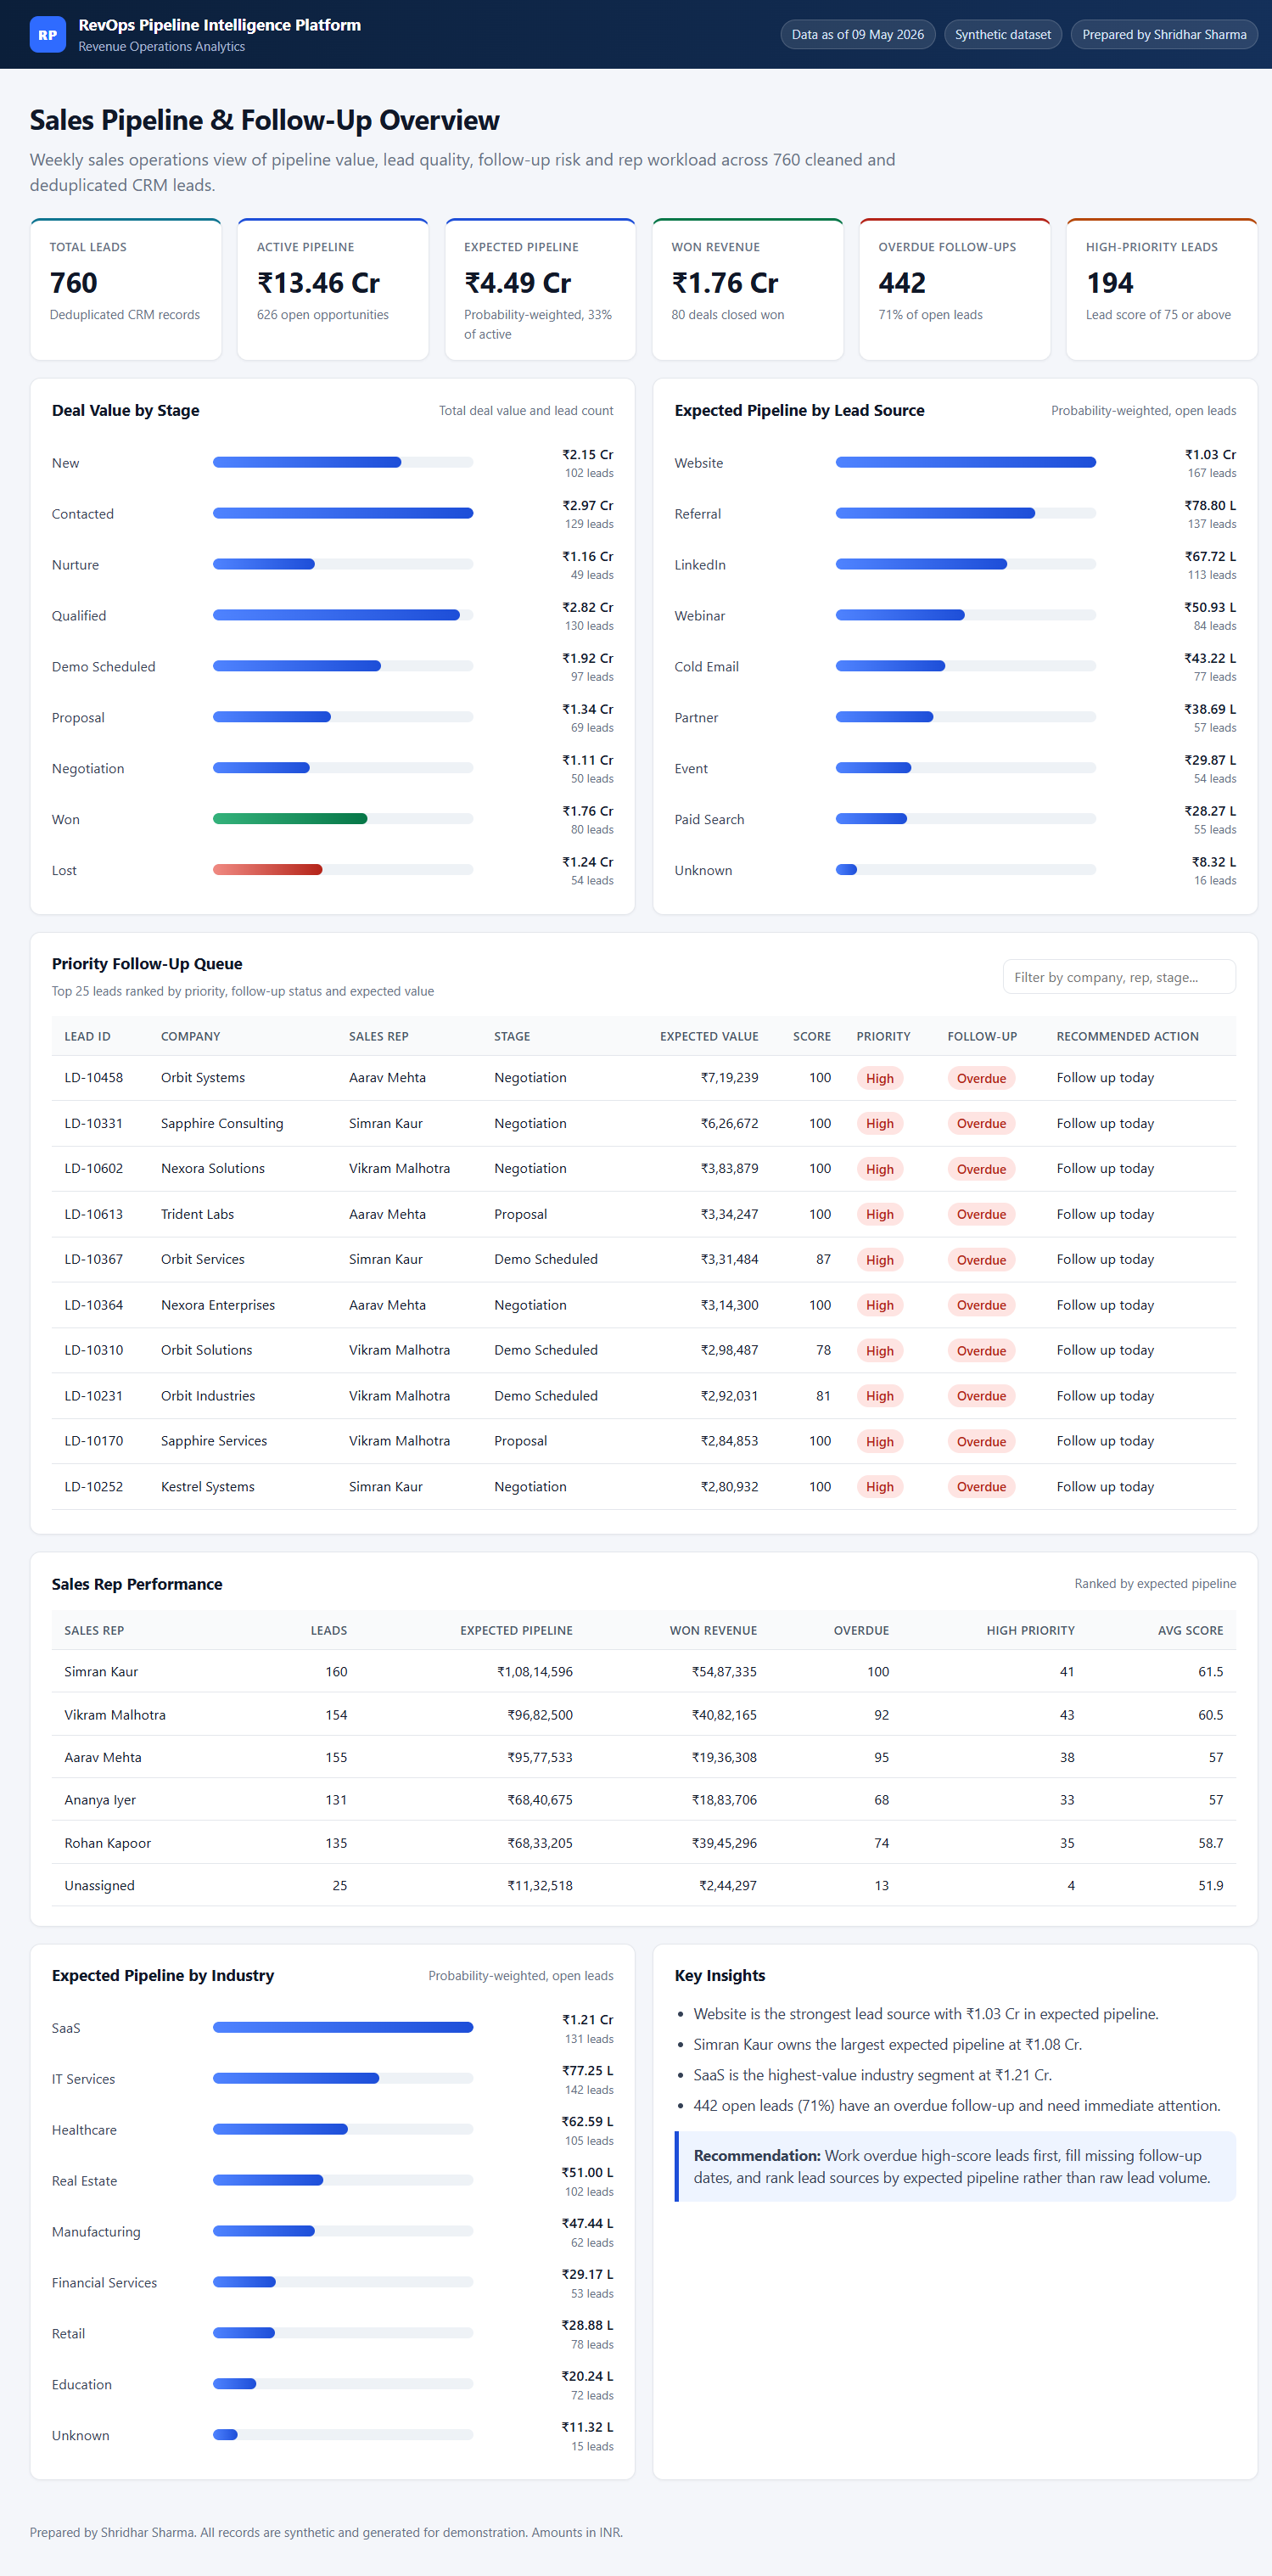

This screenshot's page, from the dashboard's own definition file:
{"tool":"powerbi","page":{"name":"Page 1","canvas":[1920,1080],"ordinal":0},"visuals":[{"type":"cardVisual","fields":{"Data":["clean_crm_leads.Total Leads"]},"box":[0,0,185,115],"z":1},{"type":"cardVisual","fields":{"Data":["clean_crm_leads.Active Pipeline (Cr)"]},"box":[183,0,238,115],"z":2},{"type":"cardVisual","fields":{"Data":["clean_crm_leads.Expected Pipeline (Cr)"]},"box":[421,0,226,115],"z":3},{"type":"cardVisual","fields":{"Data":["clean_crm_leads.Won Revenue (Cr)"]},"box":[647,1,233,115],"z":4},{"type":"cardVisual","fields":{"Data":["clean_crm_leads.Overdue Follow-Ups"]},"box":[879,0,242,115],"z":5},{"type":"cardVisual","fields":{"Data":["clean_crm_leads.High Priority Leads"]},"box":[1121,0,248,115],"z":6},{"type":"clusteredBarChart","title":"Deal Value by Stage","fields":{"Category":["clean_crm_leads.stage"],"Y":["Sum(clean_crm_leads.deal_value)"]},"box":[0,115,457,330],"z":7},{"type":"clusteredBarChart","title":"Expected Pipeline by Lead Source","fields":{"Category":["clean_crm_leads.lead_source"],"Y":["clean_crm_leads.Expected Pipeline"]},"box":[464,115,473,330],"z":8},{"type":"clusteredBarChart","title":"Expected Pipeline by Industry","fields":{"Category":["clean_crm_leads.industry"],"Y":["clean_crm_leads.Expected Pipeline"]},"box":[946,115,423,330],"z":9},{"type":"tableEx","fields":{"Values":["clean_crm_leads.lead_id","clean_crm_leads.stage","clean_crm_leads.company_name","clean_crm_leads.sales_rep","clean_crm_leads.expected_value","clean_crm_leads.lead_score","clean_crm_leads.priority","clean_crm_leads.followup_status","clean_crm_leads.recommended_action"]},"box":[0,452,1078,283],"z":10},{"type":"tableEx","fields":{"Values":["clean_crm_leads.sales_rep","clean_crm_leads.Total Leads","clean_crm_leads.Expected Pipeline","clean_crm_leads.Won Revenue","clean_crm_leads.Overdue Follow-Ups","clean_crm_leads.High Priority Leads"]},"box":[0,743,779,218],"z":11},{"type":"slicer","fields":{"Values":["clean_crm_leads.sales_rep"]},"box":[1092,653,170,62.5],"z":12},{"type":"slicer","fields":{"Values":["clean_crm_leads.region"]},"box":[1091,452,170,63.8],"z":13},{"type":"slicer","fields":{"Values":["clean_crm_leads.lead_source"]},"box":[1092,516,171.2,55],"z":14},{"type":"slicer","fields":{"Values":["clean_crm_leads.stage"]},"box":[1093,582,170,71.2],"z":15}]}

Visuals, with their boxes on the page's 1920x1080 design canvas (x1, y1, x2, y2). These are canvas units, not pixel positions in the 1272x2576 screenshot, which may show the page scaled, cropped or inside an application window:
cardVisual - clean_crm_leads.Total Leads: locate(0, 0, 185, 115)
cardVisual - clean_crm_leads.Active Pipeline (Cr): locate(183, 0, 421, 115)
cardVisual - clean_crm_leads.Expected Pipeline (Cr): locate(421, 0, 647, 115)
cardVisual - clean_crm_leads.Won Revenue (Cr): locate(647, 1, 880, 116)
cardVisual - clean_crm_leads.Overdue Follow-Ups: locate(879, 0, 1121, 115)
cardVisual - clean_crm_leads.High Priority Leads: locate(1121, 0, 1369, 115)
"Deal Value by Stage" clusteredBarChart: locate(0, 115, 457, 445)
"Expected Pipeline by Lead Source" clusteredBarChart: locate(464, 115, 937, 445)
"Expected Pipeline by Industry" clusteredBarChart: locate(946, 115, 1369, 445)
tableEx - clean_crm_leads.lead_id x clean_crm_leads.stage: locate(0, 452, 1078, 735)
tableEx - clean_crm_leads.sales_rep x clean_crm_leads.Total Leads: locate(0, 743, 779, 961)
slicer - clean_crm_leads.sales_rep: locate(1092, 653, 1262, 716)
slicer - clean_crm_leads.region: locate(1091, 452, 1261, 516)
slicer - clean_crm_leads.lead_source: locate(1092, 516, 1263, 571)
slicer - clean_crm_leads.stage: locate(1093, 582, 1263, 653)
